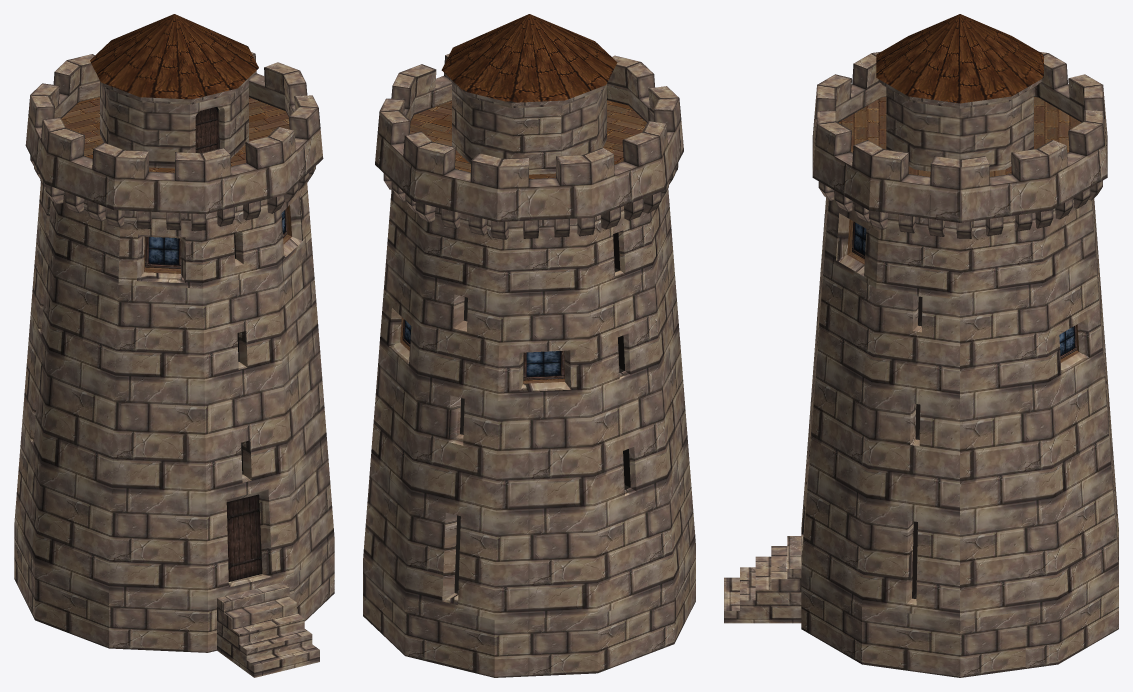
File: tower2.obj
3 renders of one model, left to right at view 1: azimuth 30°, elevation 25°; view 2: azimuth 150°, elevation 25°; view 3: azimuth 270°, elevation 25°, orthographic. The views are drawn at different scales.
Parts seen in each view (by area): view 1: Castle_Tower; view 2: Castle_Tower; view 3: Castle_Tower.
Part boxes in pixels (left/top/right/bottom): Castle_Tower: left=14, top=14, right=334, bottom=677; Castle_Tower: left=363, top=14, right=695, bottom=677; Castle_Tower: left=724, top=14, right=1118, bottom=677.
Bounding box in the file's own units: 222 × 435 × 262.
Materials: 1 (1 with a texture image).
